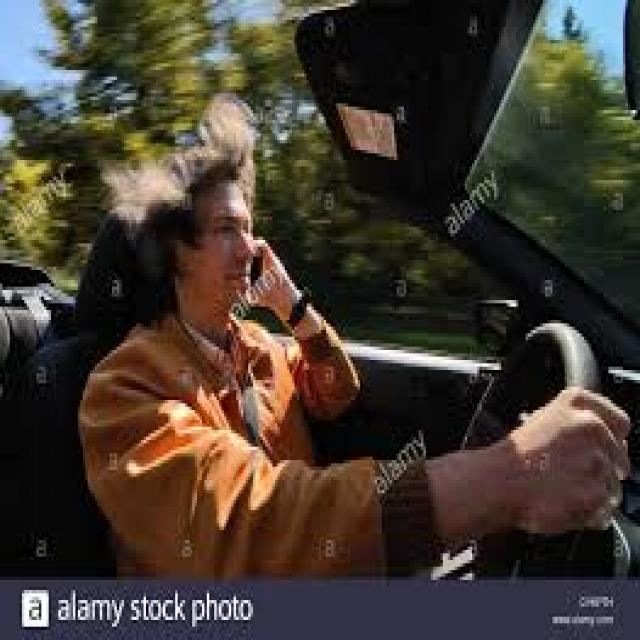Cellphone_calling: (212, 224, 292, 314)
